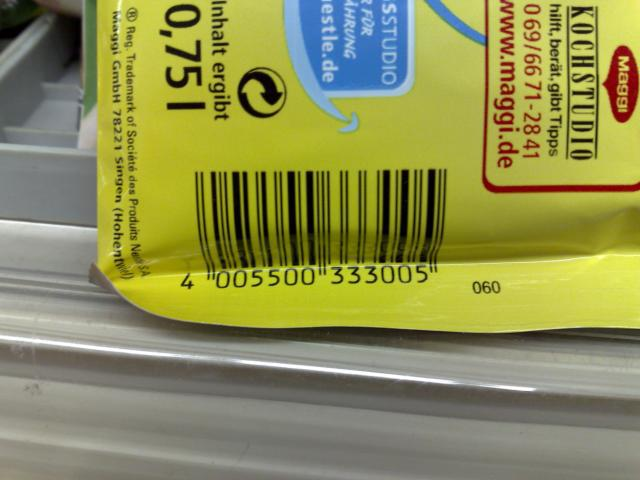Barkod: (188, 168, 450, 276)
